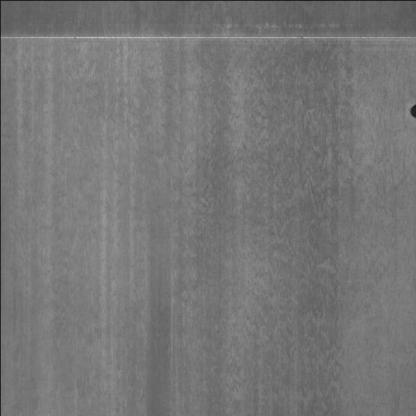punching_hole: (406, 98, 416, 118)
silk_spot: (10, 60, 384, 409)
welding_line: (0, 25, 416, 52)
